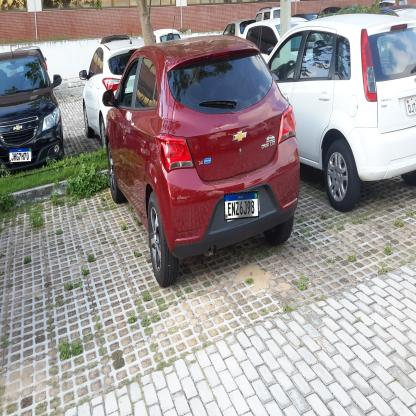PlacaM: (224, 191, 259, 220), (9, 147, 31, 163)
